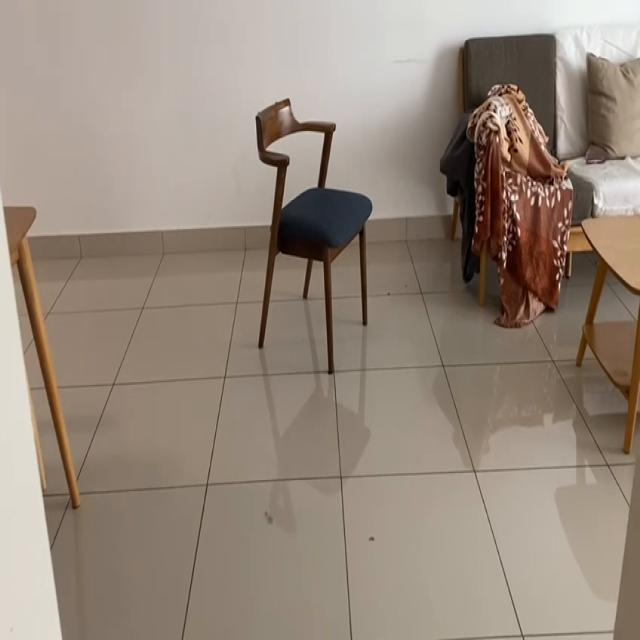Chair: (224, 84, 382, 390)
